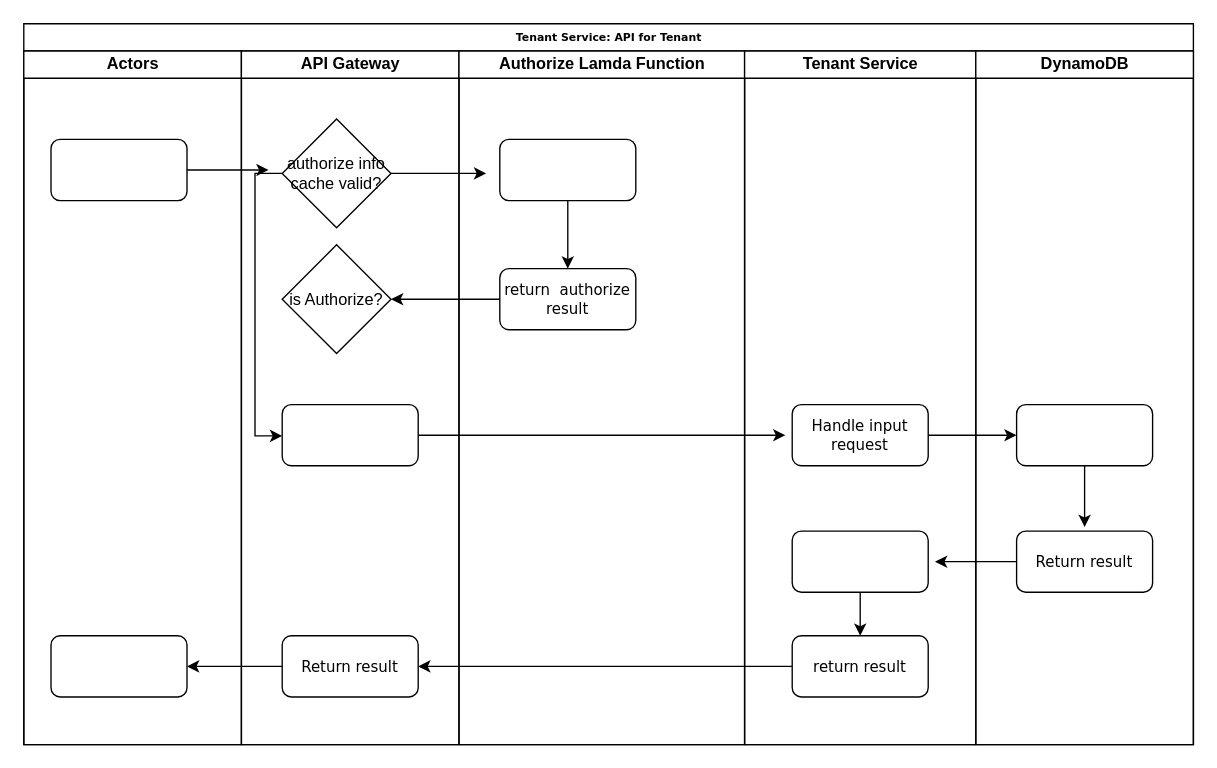
Image size: 1217x768. Some labels were removed from this diagram. The centre of each missing label's shape, as x and y in pixels:
Handle authorize: the point at 567,169
Handle request: the point at 1084,434
Handle result: the point at 859,561
Receiver result: the point at 118,665
route path, send request: the point at 349,434
Send request: the point at 118,169
